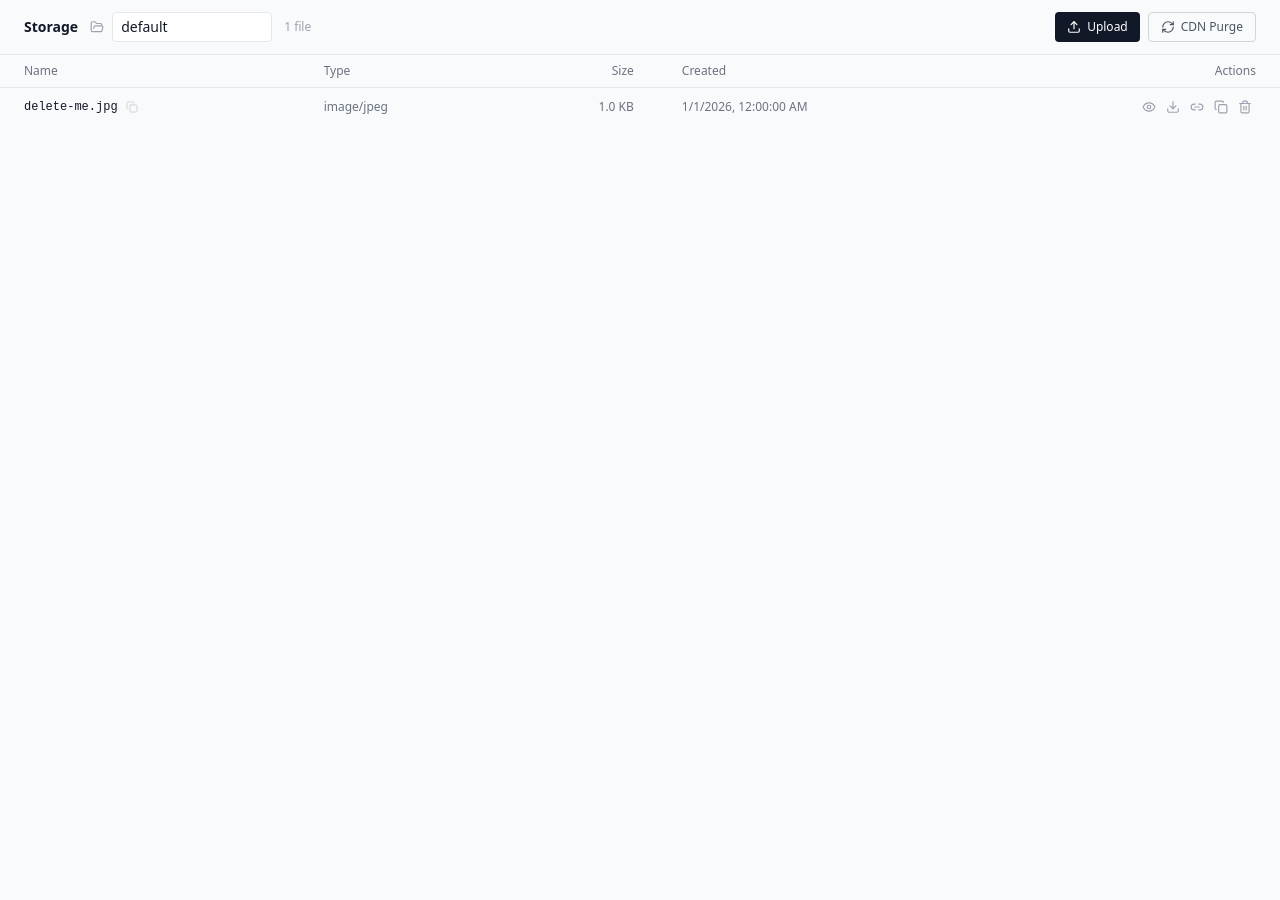
Test: StorageBrowser › opens delete confirmation
The image size is (1280, 900).
Expected: the text "delete-me.jpg" is shown, [24,99,118,115]
Click the button titled "Delete".
click(1245, 107)  # box [1234,96,1256,118]
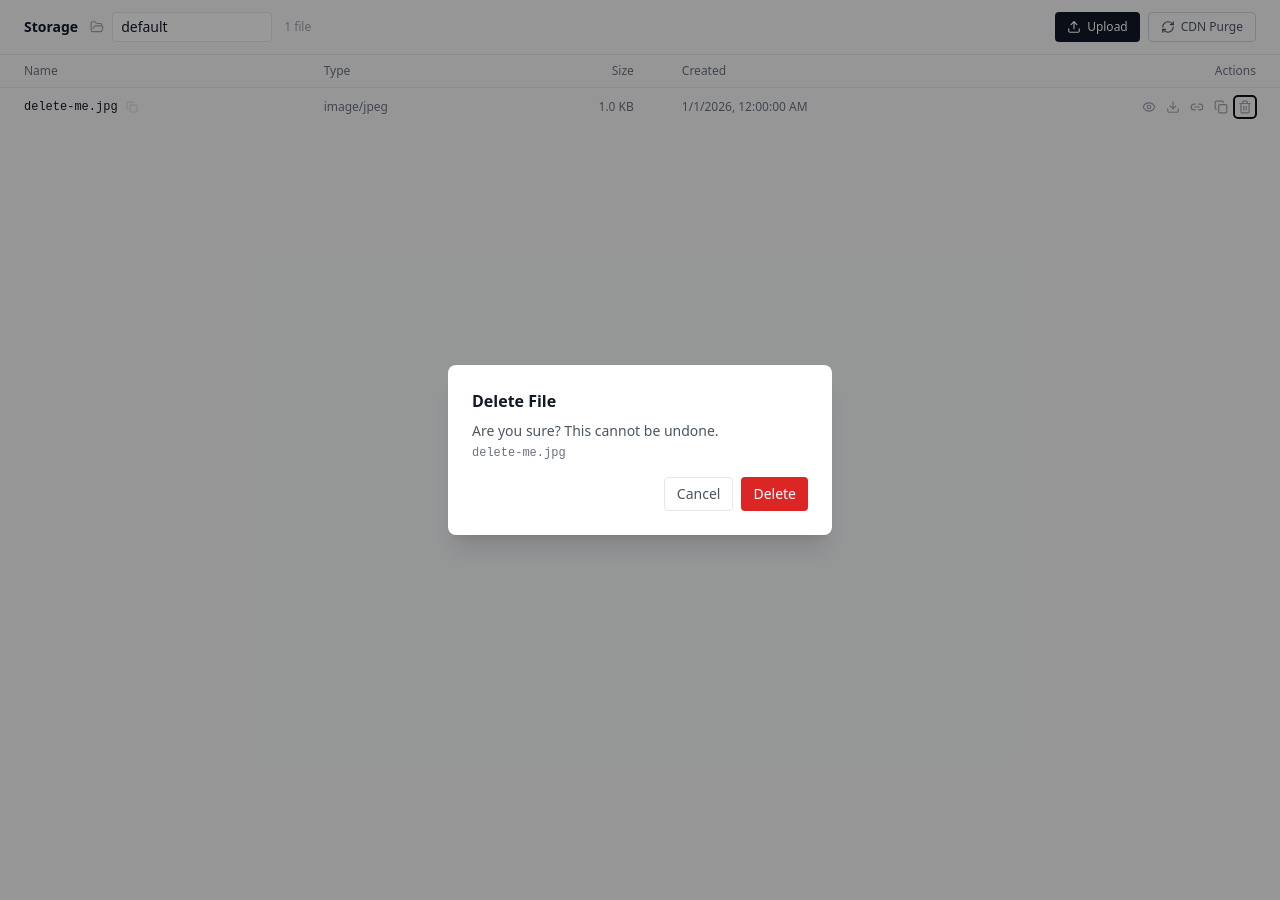
Expected: the heading "Delete File" is shown, [472,390,556,412]
